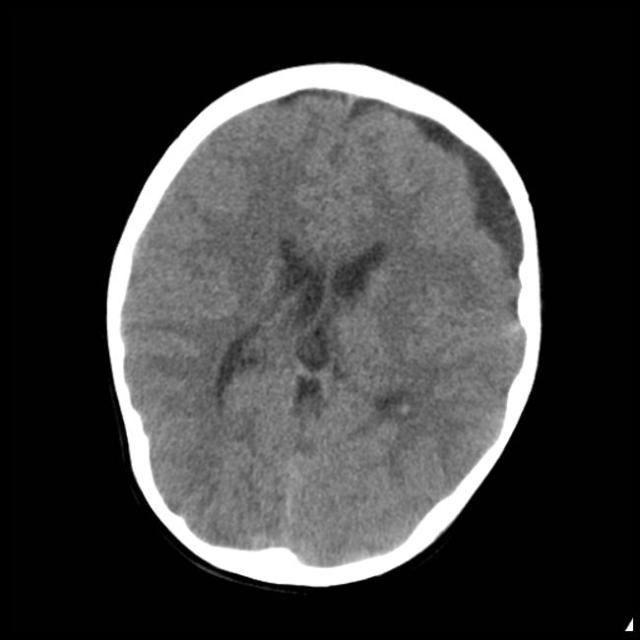lesion: (109, 74, 540, 582)
